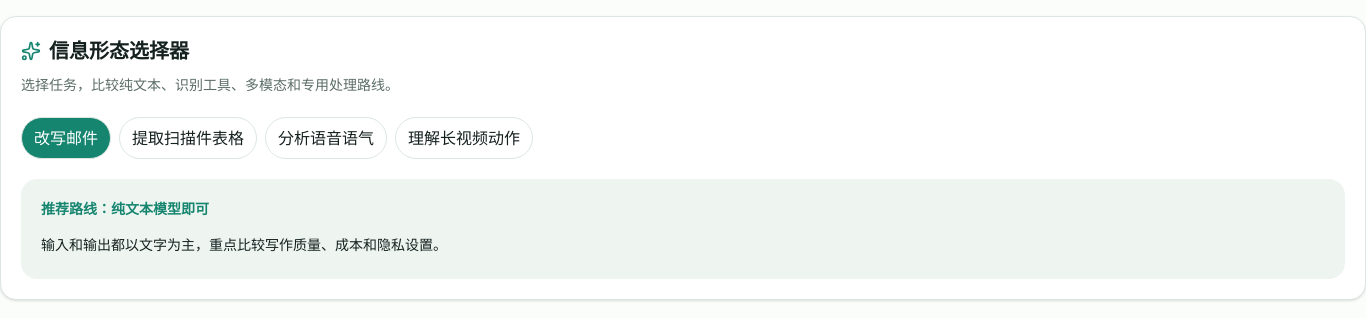
Scenario: course client interactions › recommends processing routes by information modality
Click the button "提取扫描件表格" at [188, 138], box [119,117,257,159]
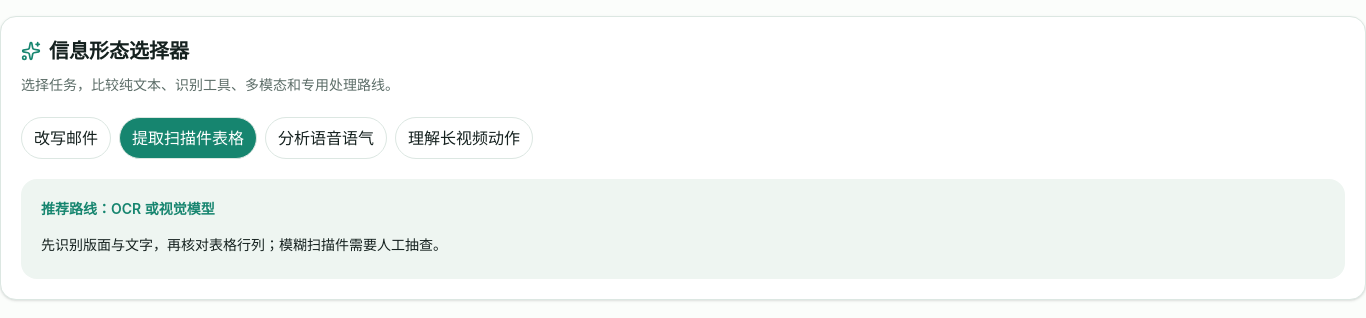
Now the text "OCR 或视觉模型" is shown, box [111,200,215,217]
Click the button "分析语音语气" at [326, 138], box [265,117,387,159]
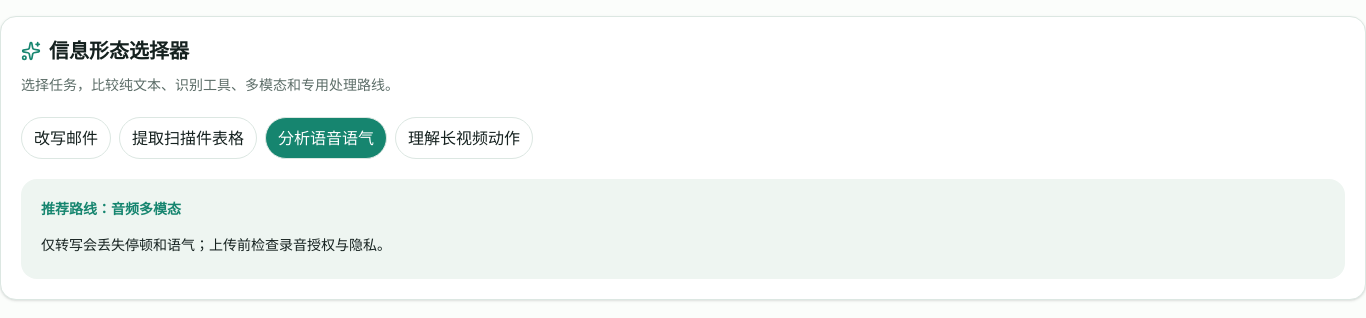
Now the text "音频多模态" is shown, box [111,200,181,217]
Now the text "隐私" is shown, box [41,236,391,253]
Click the button "理解长视频动作" at [464, 138], box [395,117,533,159]
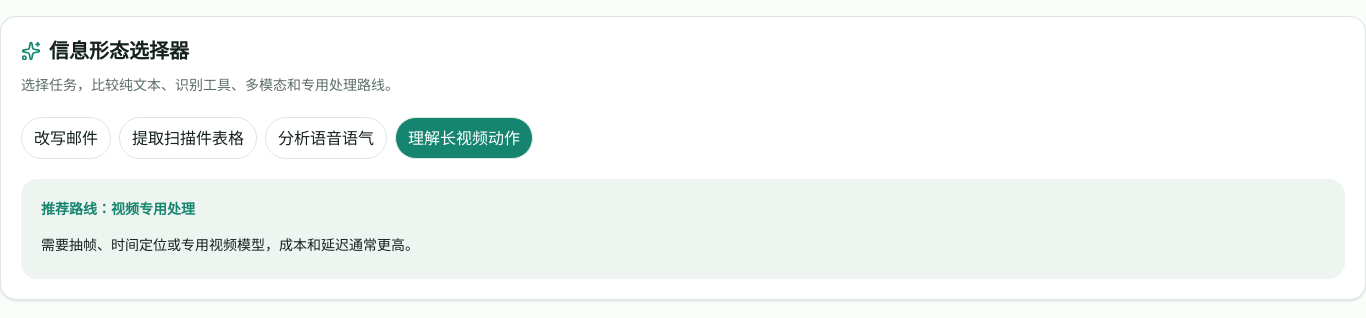
Now the text "视频专用处理" is shown, box [111,200,195,217]
Now the text "成本" is shown, box [41,236,419,253]
